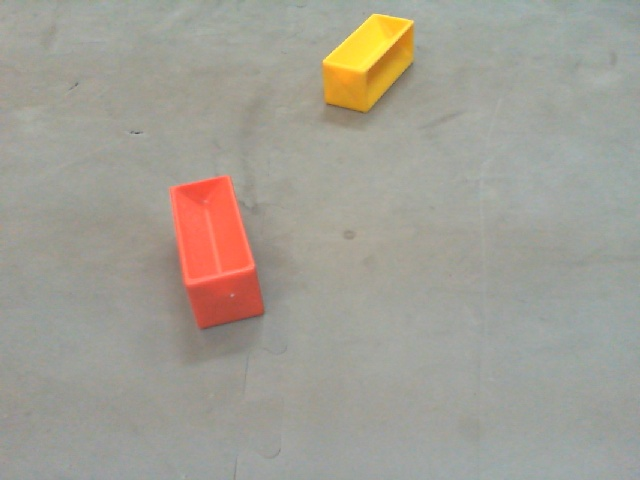RedSample: (170, 171, 272, 334)
YellowSample: (320, 10, 418, 117)
